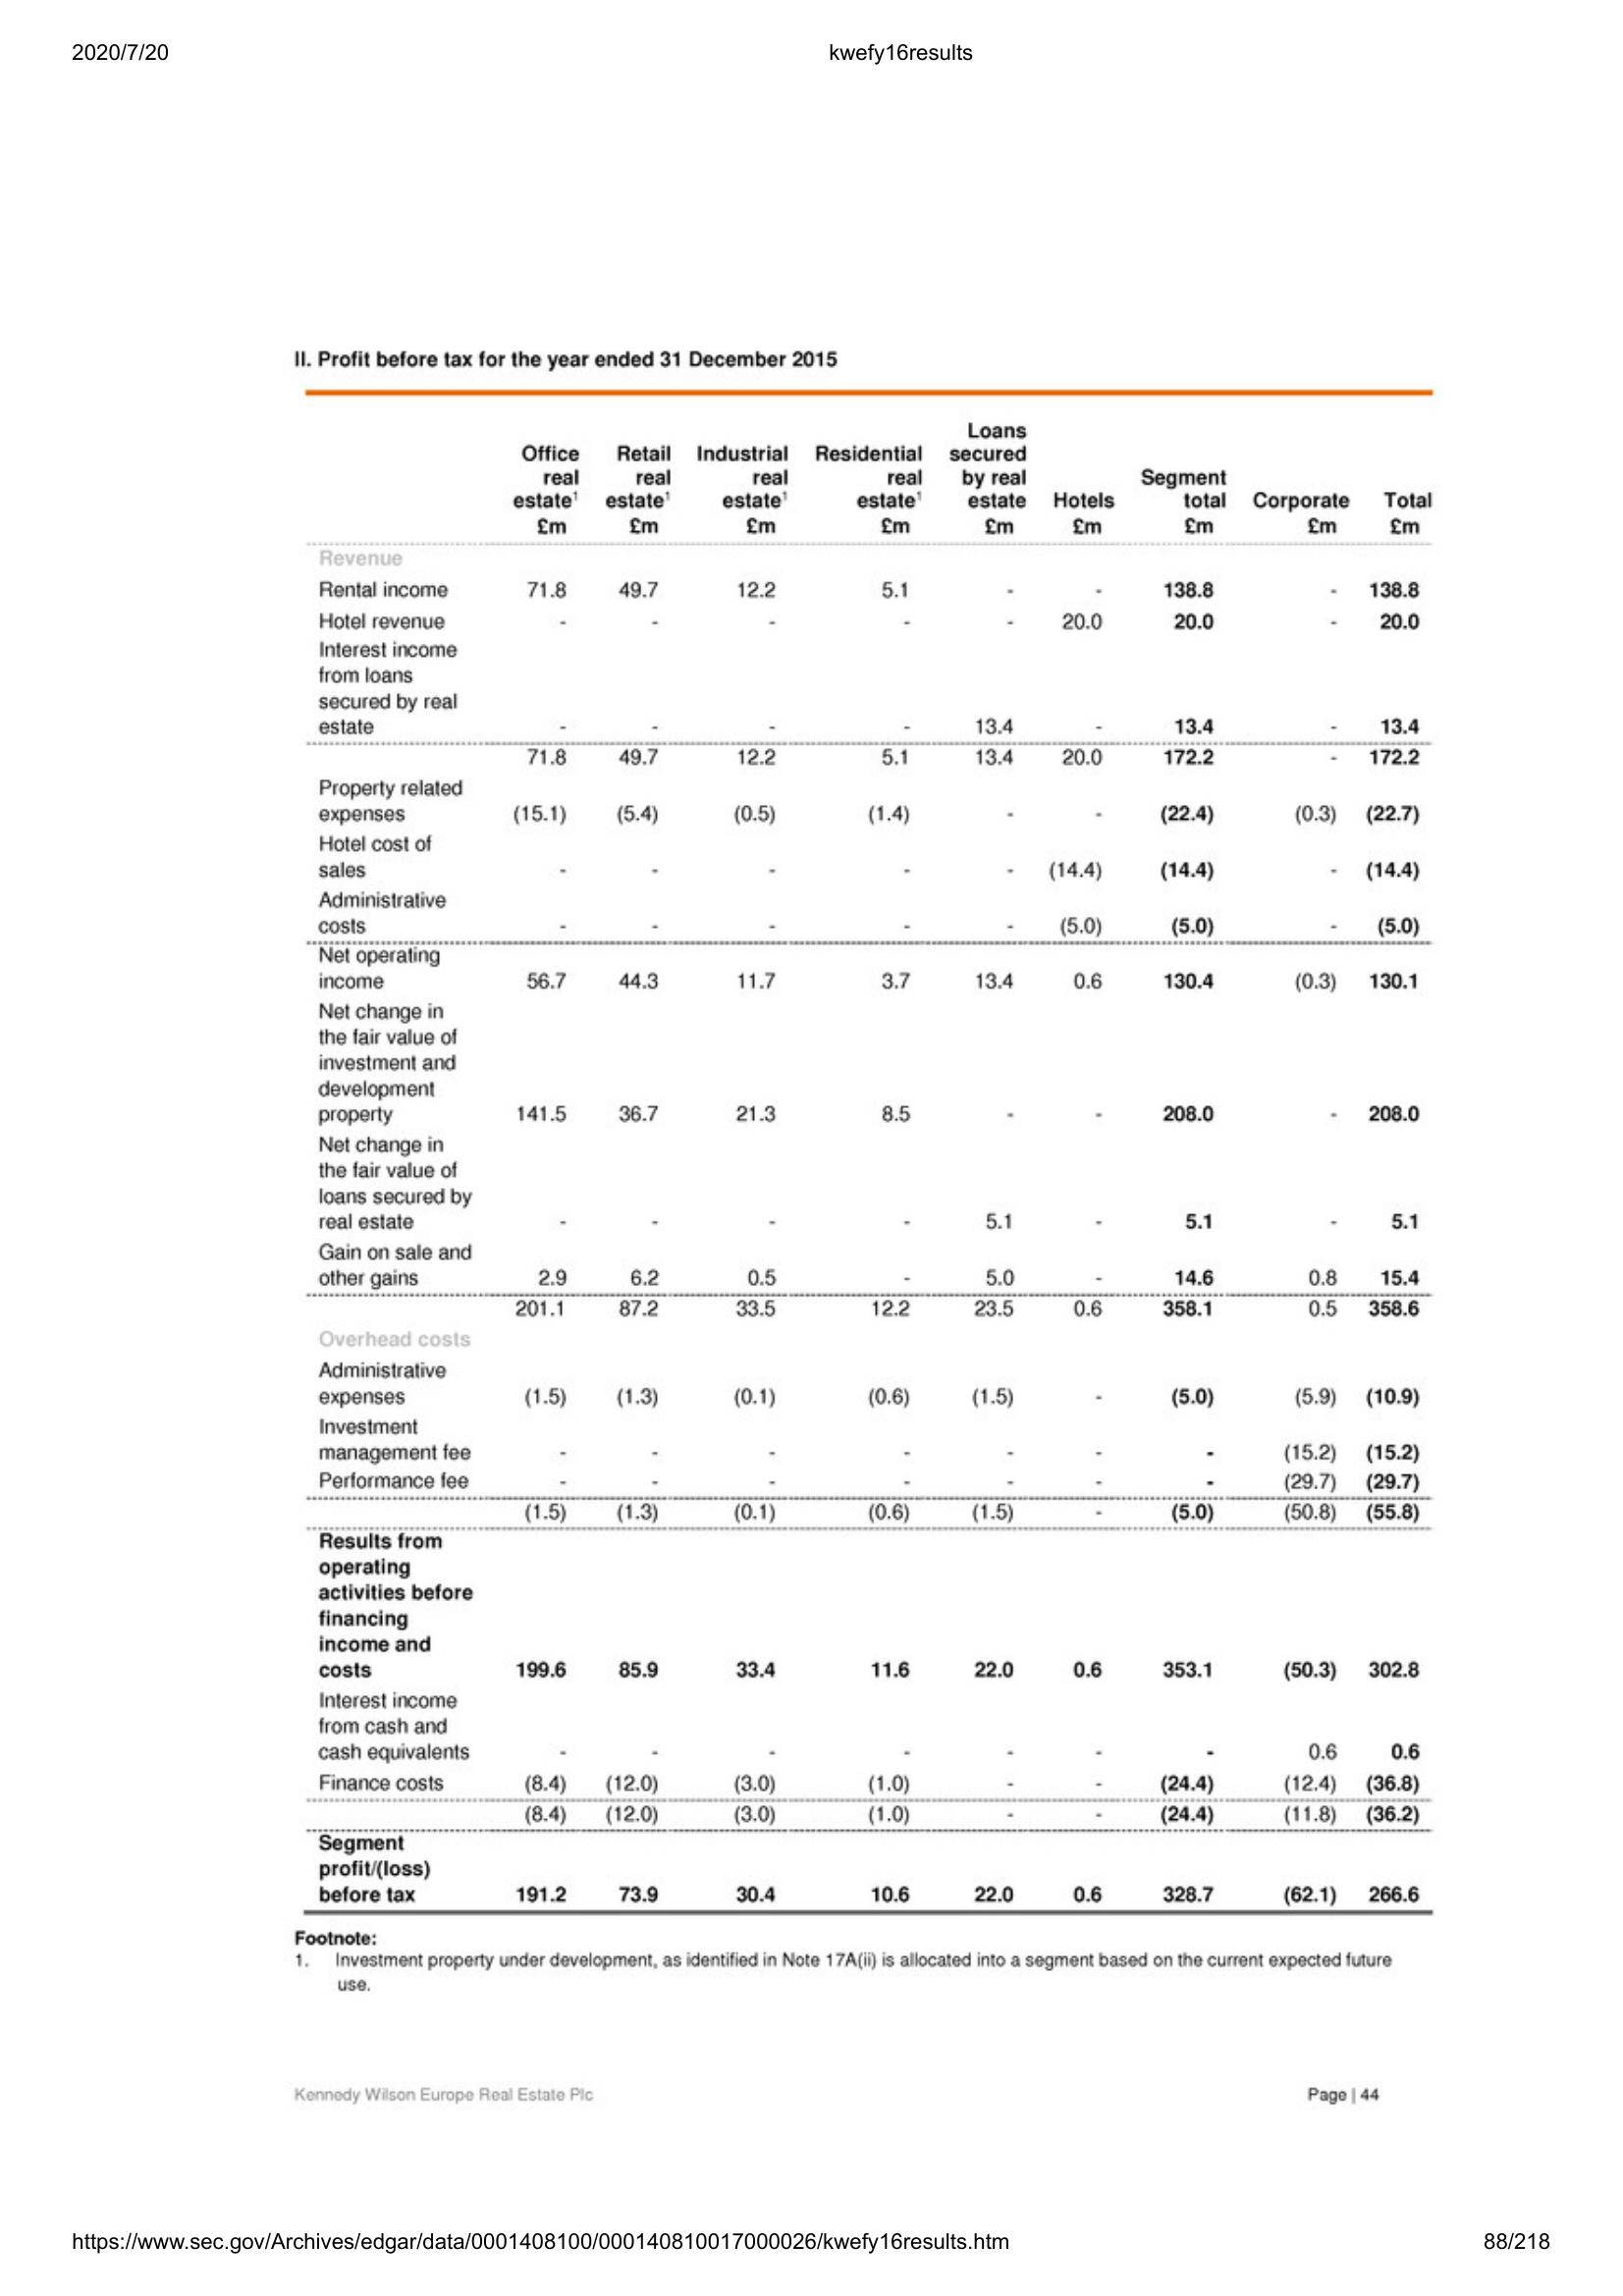table: (297, 383, 1442, 1926)
